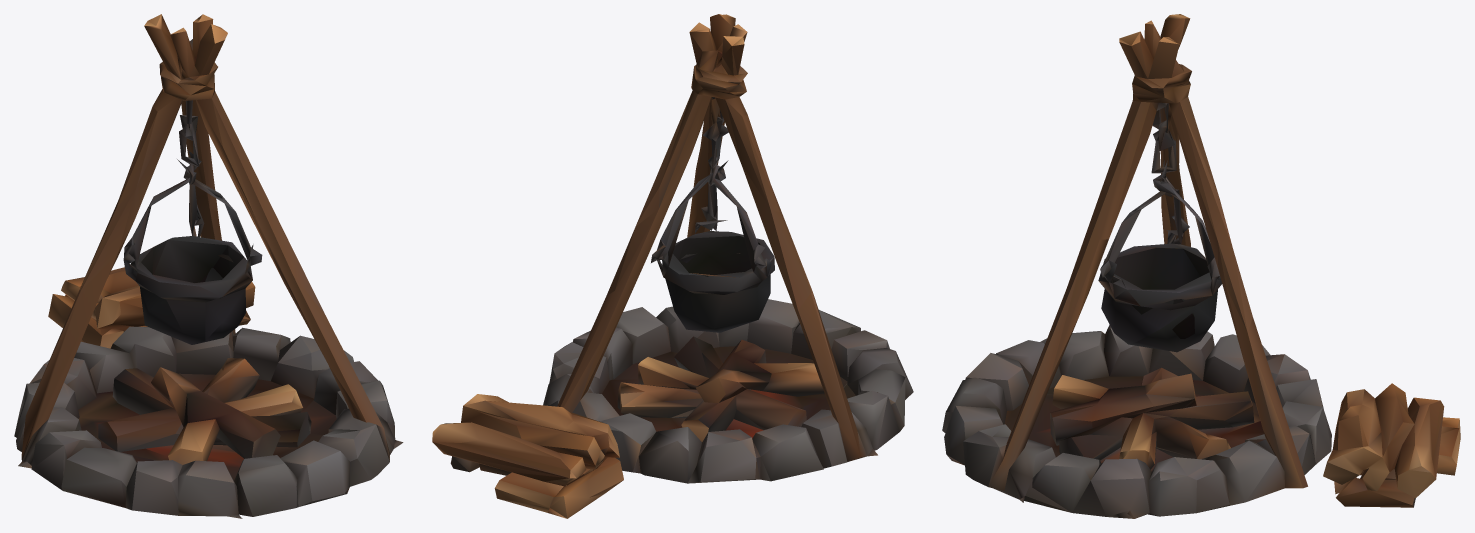
File: campfire.lod2.glb
The picture shows the model from 3 angles, left to right: view 1: azimuth 30°, elevation 25°; view 2: azimuth 150°, elevation 25°; view 3: azimuth 270°, elevation 25°; orthographic projection. The views are drawn at different scales.
Parts seen in each view (by area): view 1: Mesh_0; view 2: Mesh_0; view 3: Mesh_0.
Boxes of the visible parts, box(x1,y1,x2,y2) form: Mesh_0: box(14, 14, 403, 518); Mesh_0: box(432, 14, 913, 518); Mesh_0: box(942, 14, 1460, 518).
Size of the model in its own units: 1.44 by 1.64 by 1.88.
